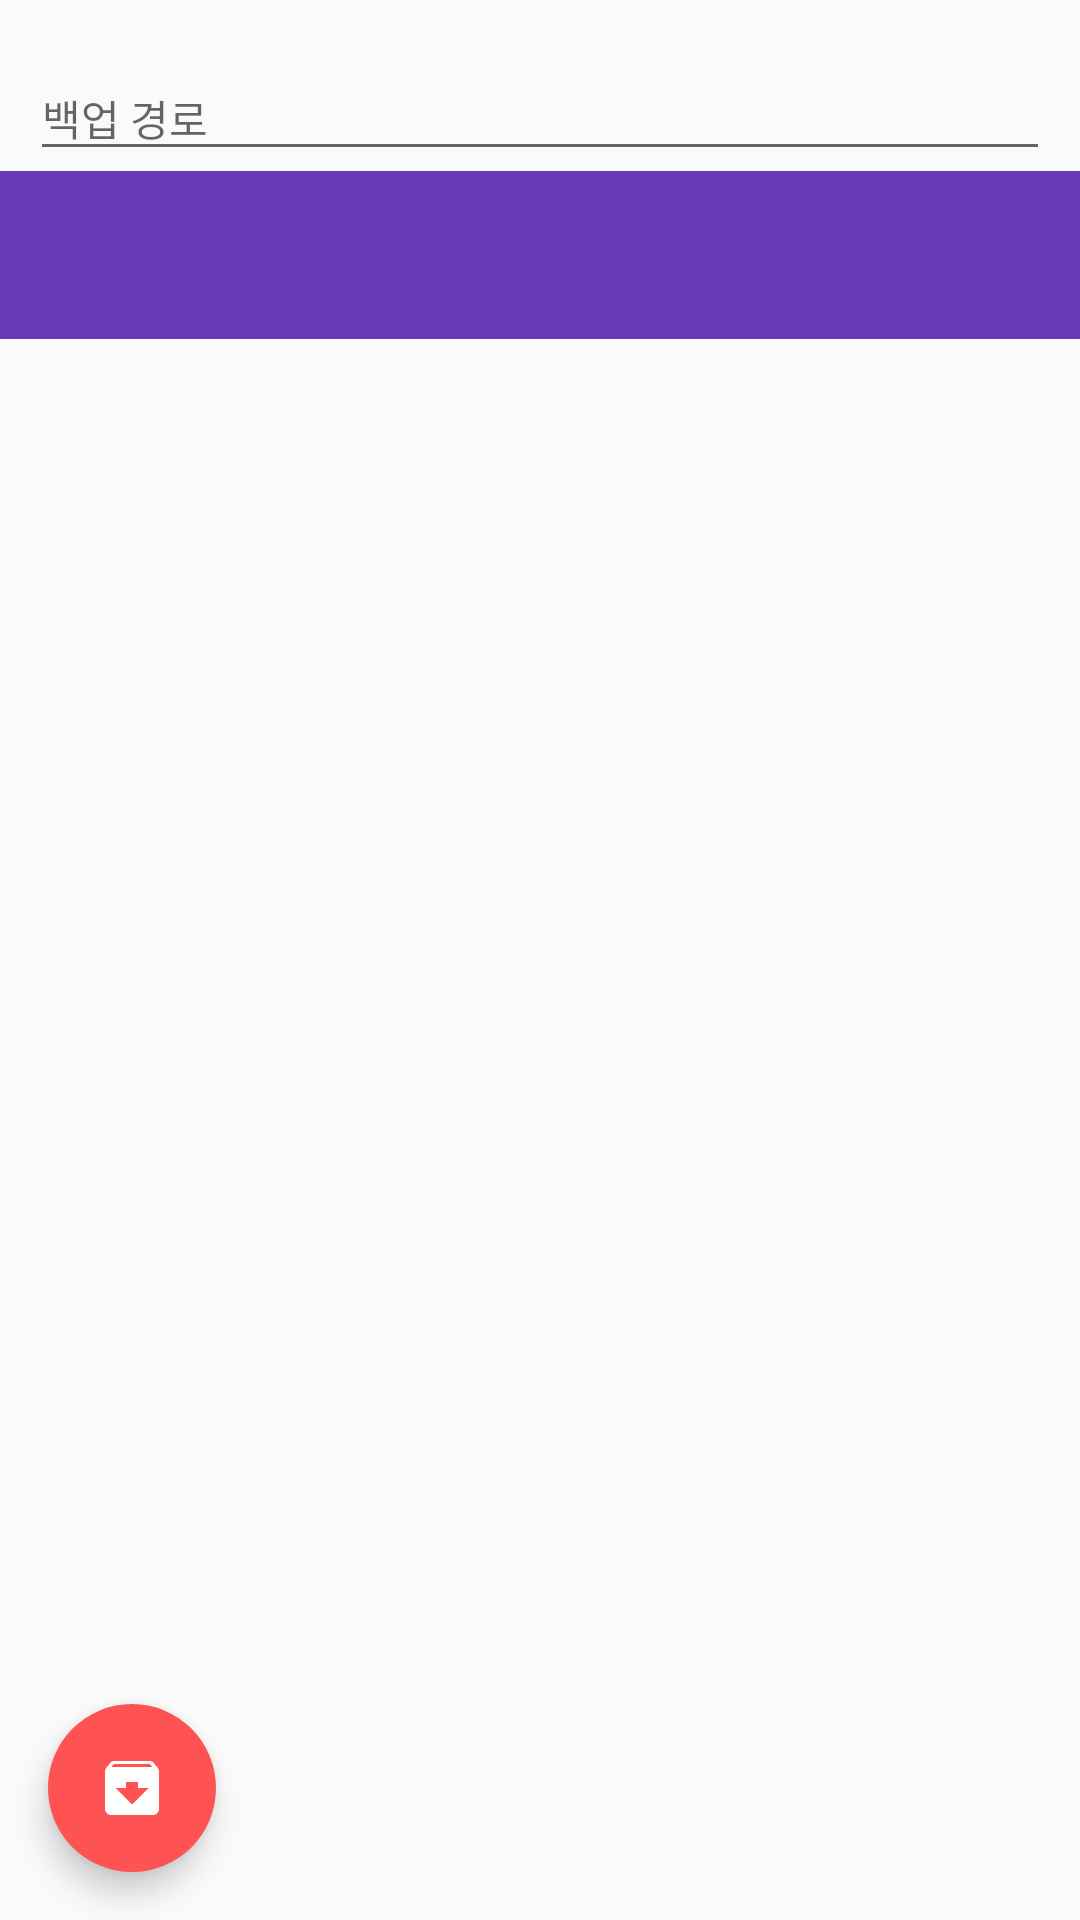

Point at icon controls on the screen. Image size 1080w x 1920h, points as [x,y].
archive: [132,1788]
